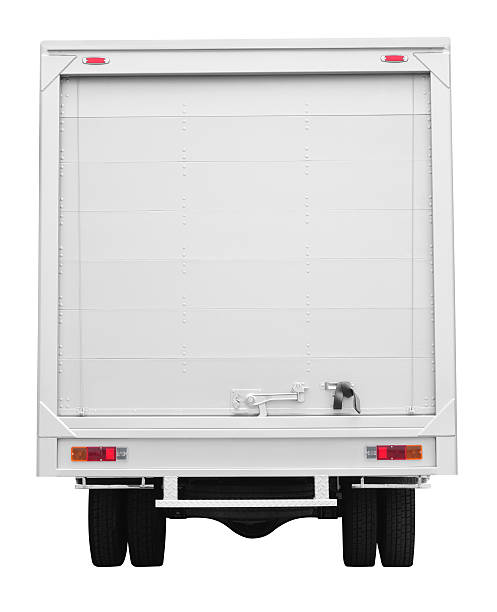Semi: (36, 37, 459, 568)
